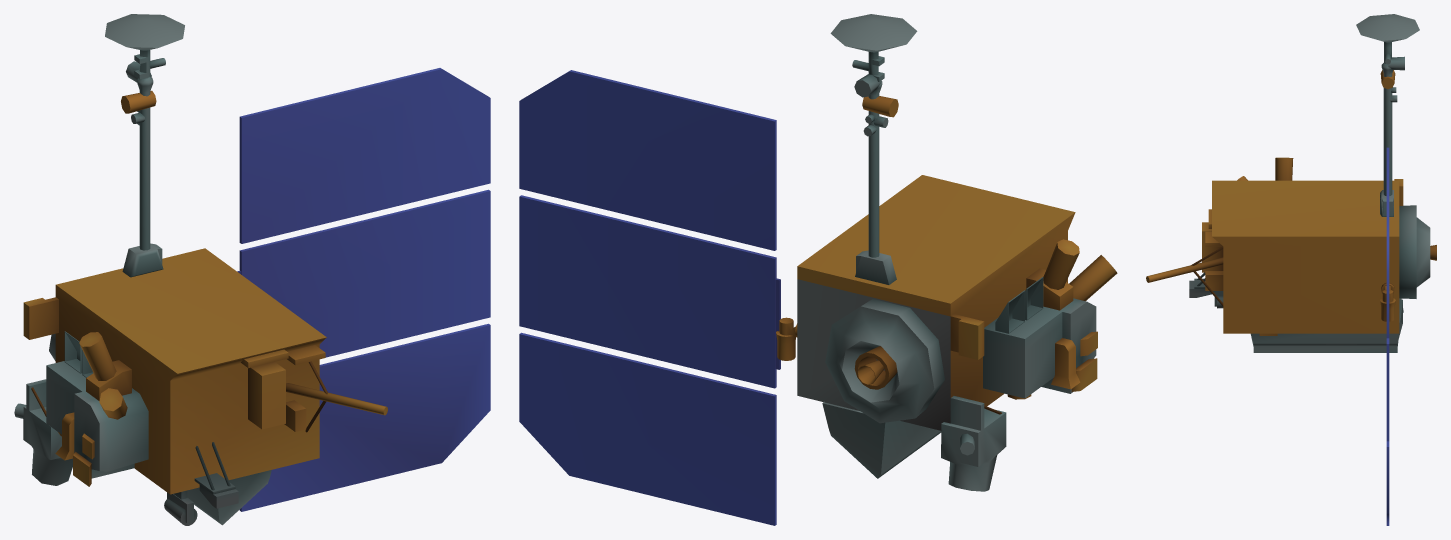
The model's file is space-satellites-satellite_v13.glb.
The picture shows the model from 3 angles, left to right: view 1: azimuth 30°, elevation 25°; view 2: azimuth 150°, elevation 25°; view 3: azimuth 270°, elevation 25°; orthographic projection. The views are drawn at different scales.
Visible parts, largest first — view 1: Satellite_v13, Satellite_v13.001; view 2: Satellite_v13, Satellite_v13.001; view 3: Satellite_v13.001, Satellite_v13.
Part boxes in pixels (x1,y1,x2,y2): Satellite_v13: (237,68,490,511); Satellite_v13.001: (14,14,387,525); Satellite_v13: (519,70,780,525); Satellite_v13.001: (776,14,1117,491); Satellite_v13.001: (1146,14,1436,352); Satellite_v13: (1386,147,1389,525).
Size of the model in its own units: 7.89 by 8 by 5.32.
